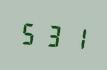five: (18, 17, 40, 48)
one: (65, 21, 87, 52)
three: (42, 19, 64, 50)
